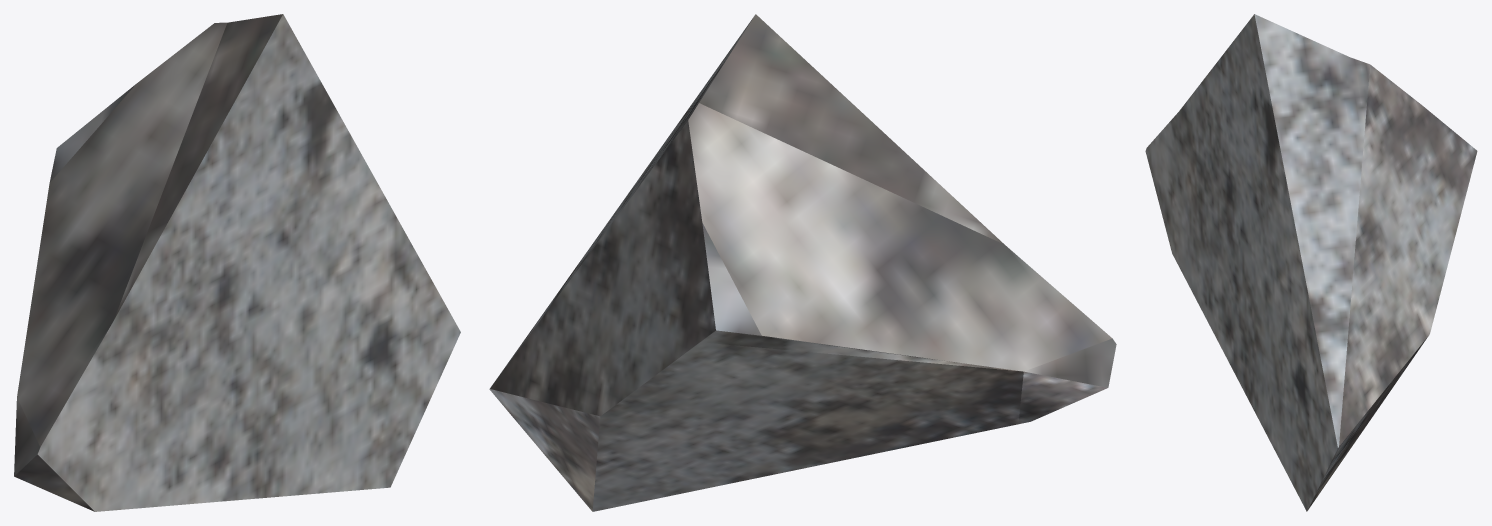
Rendered from Asteroid_Medium_001_02_005_03_004.fbx.
3 views of the same model, side by side, from view 1: azimuth 30°, elevation 25°; view 2: azimuth 150°, elevation 25°; view 3: azimuth 270°, elevation 25° (orthographic). The views are drawn at different scales.
Parts seen in each view (by area): view 1: Asteroid_Medium_001_02_005_03_004; view 2: Asteroid_Medium_001_02_005_03_004; view 3: Asteroid_Medium_001_02_005_03_004.
Boxes of the visible parts, box(x1,y1,x2,y2) form: Asteroid_Medium_001_02_005_03_004: box(14, 14, 460, 511); Asteroid_Medium_001_02_005_03_004: box(489, 14, 1116, 511); Asteroid_Medium_001_02_005_03_004: box(1145, 14, 1477, 511).
Size of the model in its own units: 4.7 by 4.36 by 2.97.
